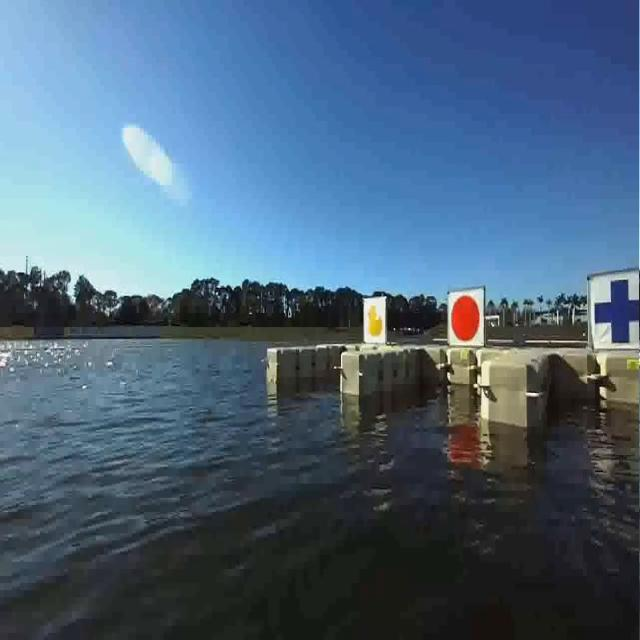blue-cross: (585, 277, 640, 343)
red-dot: (447, 292, 482, 343)
yellow-duck: (362, 298, 385, 338)
